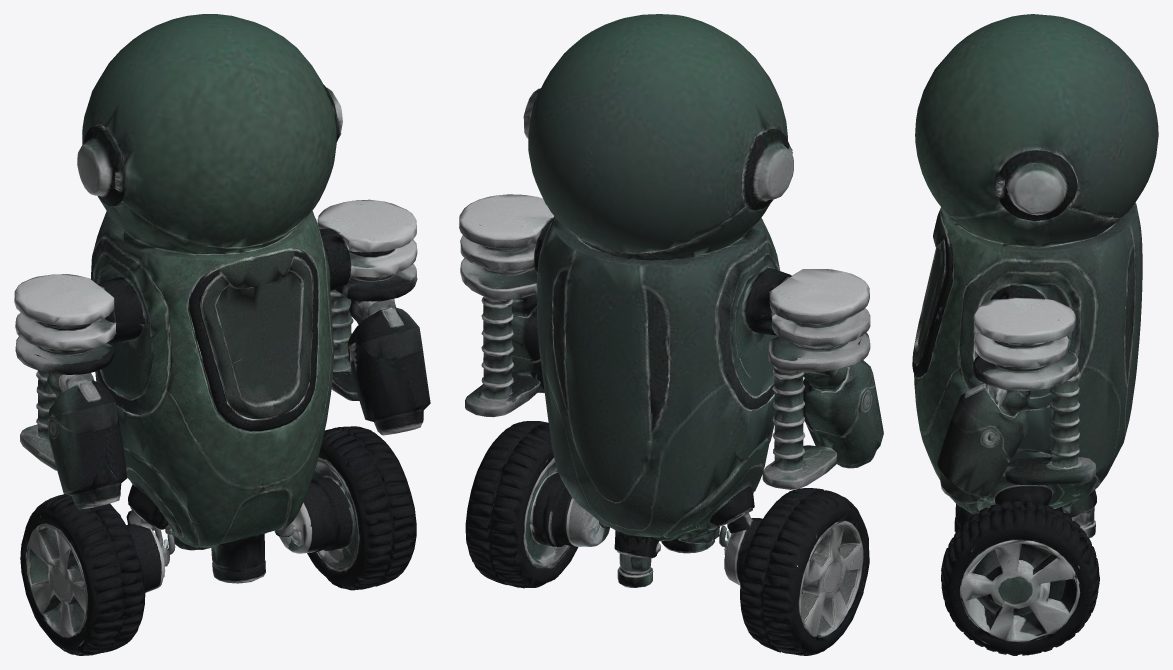
Rendered from dotdashCourierPod.8238f297.glb.
The picture shows the model from 3 angles, left to right: view 1: azimuth 30°, elevation 25°; view 2: azimuth 150°, elevation 25°; view 3: azimuth 270°, elevation 25°; orthographic projection. The views are drawn at different scales.
Bounding box in the file's own units: 1.33 × 1.9 × 0.758.
1 material, 1 textured.
